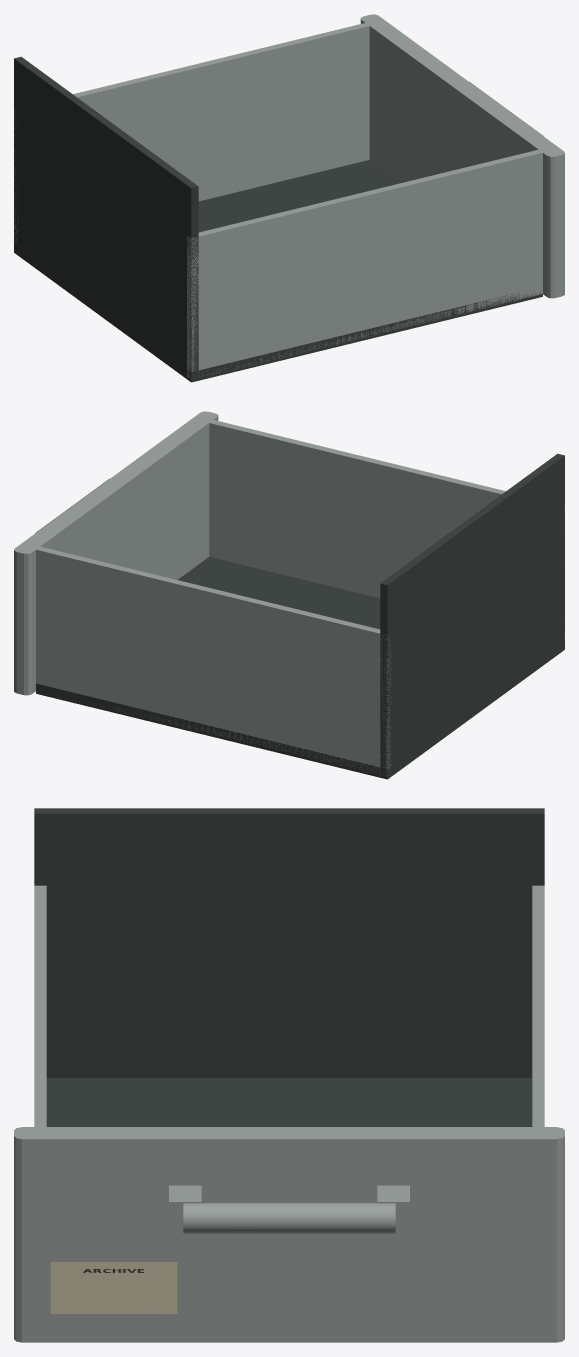
Rendered from SM_ArchiveProps_FireDrawer_LOD1.fbx.
3 views of the same model, one above another, from view 1: azimuth 30°, elevation 25°; view 2: azimuth 150°, elevation 25°; view 3: azimuth 270°, elevation 25° (orthographic). The views are drawn at different scales.
Parts seen in each view (by area): view 1: SM_ArchiveProps_FireDrawer_LOD1; view 2: SM_ArchiveProps_FireDrawer_LOD1; view 3: SM_ArchiveProps_FireDrawer_LOD1.
Boxes of the visible parts, bbox=[...] form: SM_ArchiveProps_FireDrawer_LOD1: bbox=[14, 14, 564, 382]; SM_ArchiveProps_FireDrawer_LOD1: bbox=[14, 411, 564, 779]; SM_ArchiveProps_FireDrawer_LOD1: bbox=[14, 808, 564, 1342].
Size of the model in its own units: 0.331 by 0.27 by 0.151.
